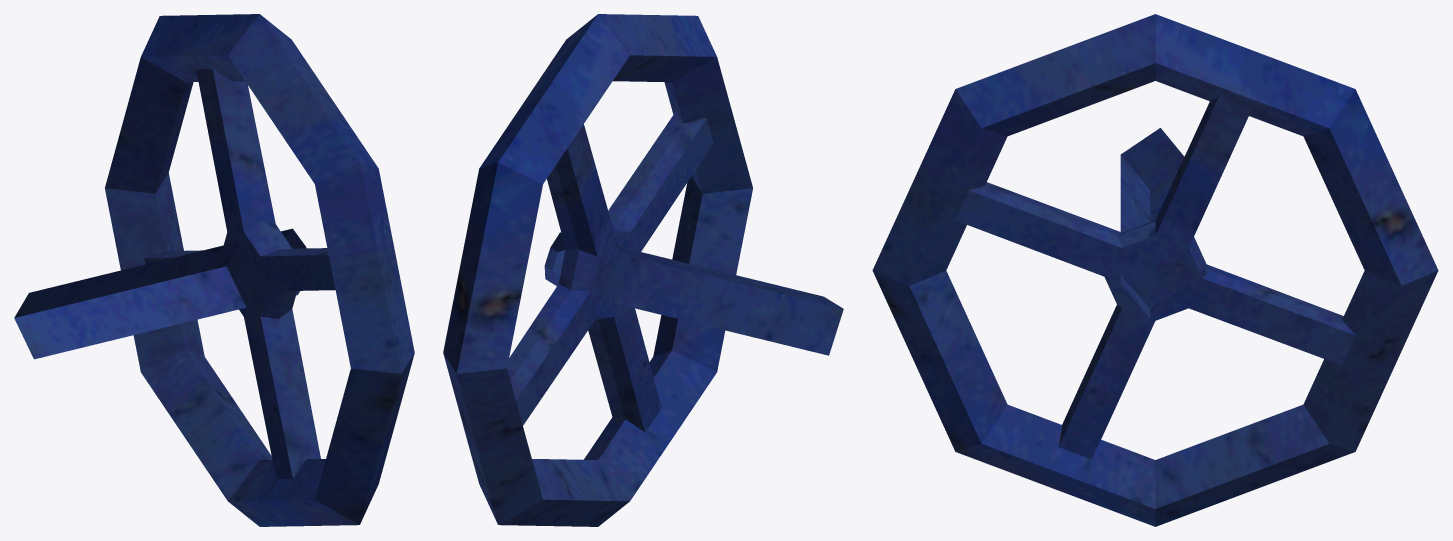
The model's file is Urban_ValveBlueWithHandle_Model.fbx.
3 views of the same model, side by side, from view 1: azimuth 30°, elevation 25°; view 2: azimuth 150°, elevation 25°; view 3: azimuth 270°, elevation 25° (orthographic).
Parts seen in each view (by area): view 1: Urban_ValveBlueWithHandle_Mesh; view 2: Urban_ValveBlueWithHandle_Mesh; view 3: Urban_ValveBlueWithHandle_Mesh.
Part boxes in pixels (box(x1,y1,x2,y2)): Urban_ValveBlueWithHandle_Mesh: box(14, 14, 414, 526); Urban_ValveBlueWithHandle_Mesh: box(443, 14, 843, 526); Urban_ValveBlueWithHandle_Mesh: box(872, 14, 1438, 526).
Size of the model in its own units: 0.234 by 0.4167 by 0.4167.
